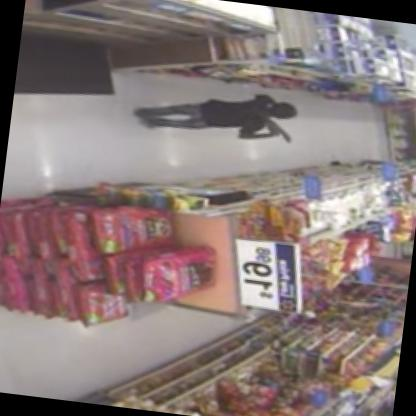Human Body: (134, 76, 298, 144)
